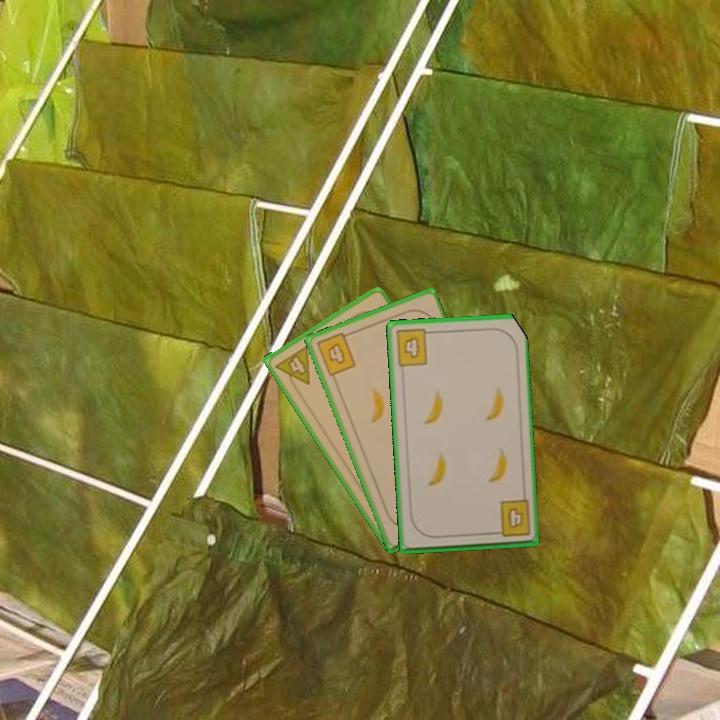4b: (313, 328, 359, 379), (392, 326, 436, 369), (489, 497, 533, 540)
4p: (271, 342, 313, 394)
